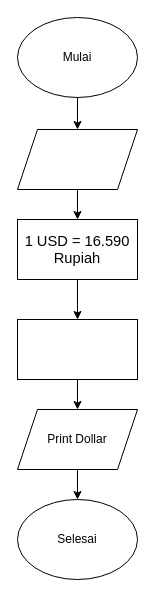
The diagram is 155 pixels wide and 597 high, and some of its shapes have lost their labels. Each missing label, with the box of its shape:
Dollar = Rupiah / Kurs: (16, 318, 138, 380)
Input Rupiah: (16, 128, 138, 190)
